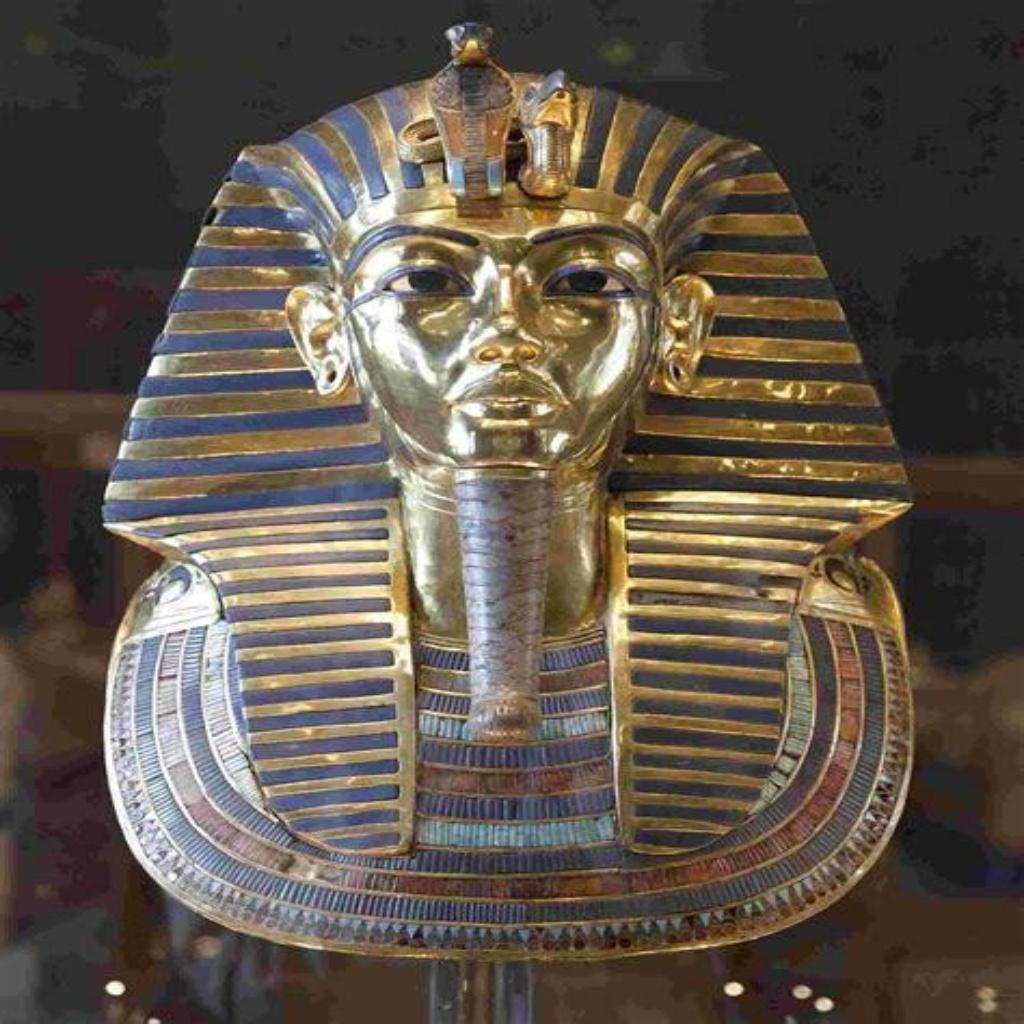Mask of Tutankhamun: (97, 22, 918, 964)
